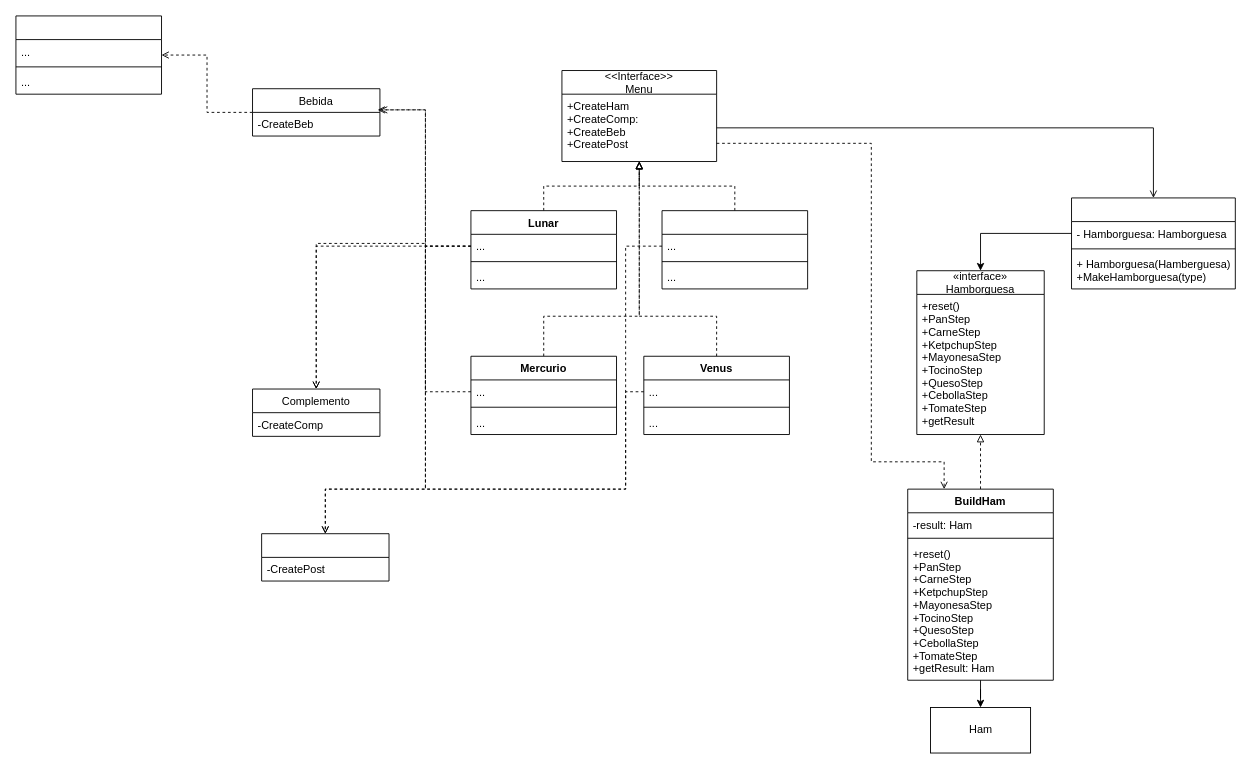
This 1251x769 diagram has some shape labels left out. The shapes that lost their labels are listed below. From the top down, each one's box as (x1, y1, x2, y2) in pixels, then its label:
(15, 15, 162, 94): Cococola
(661, 210, 808, 289): Pluton
(1071, 197, 1235, 289): Director
(261, 533, 389, 581): Postre
